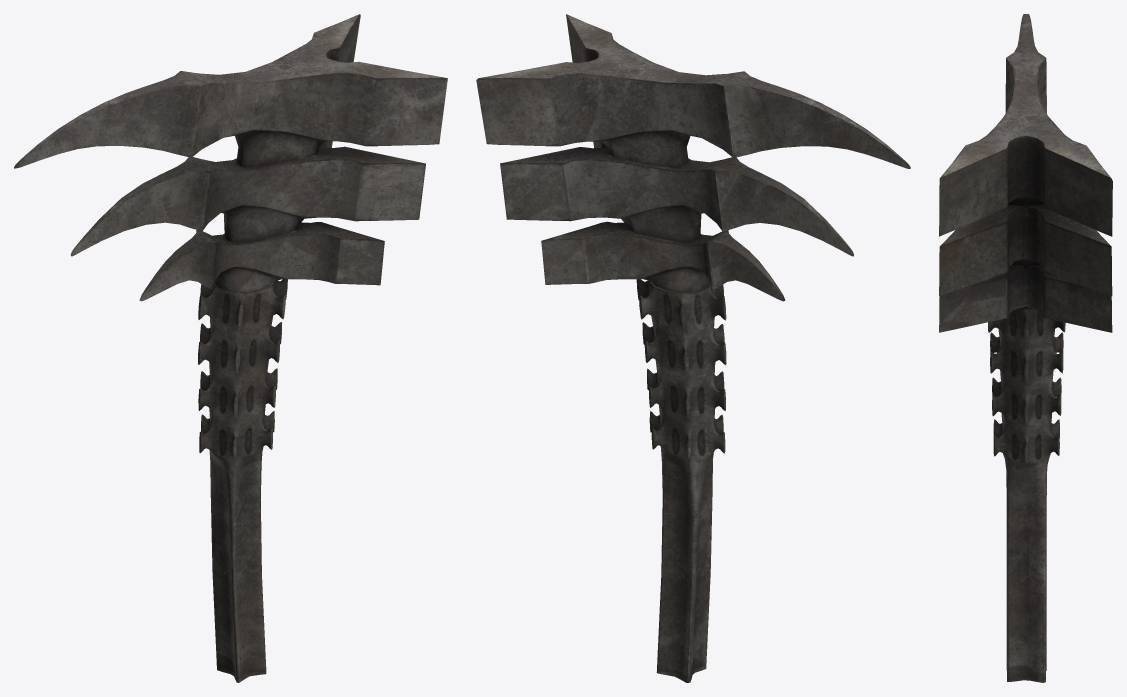
Rendered from wm_gundabad_mace_a01_blade.fbx.
The picture shows the model from 3 angles, left to right: view 1: azimuth 30°, elevation 25°; view 2: azimuth 150°, elevation 25°; view 3: azimuth 270°, elevation 25°; orthographic projection. The views are drawn at different scales.
Visible parts, largest first — view 1: wm_gundabad_mace_a01_blade; view 2: wm_gundabad_mace_a01_blade; view 3: wm_gundabad_mace_a01_blade.
Boxes of the visible parts, x1,y1,x2,y2 form: wm_gundabad_mace_a01_blade: [14, 14, 447, 682]; wm_gundabad_mace_a01_blade: [476, 14, 910, 682]; wm_gundabad_mace_a01_blade: [939, 14, 1112, 682].
Bounding box in the file's own units: 0.4916 × 0.1931 × 0.7296.
Materials: 1 (1 with a texture image).
